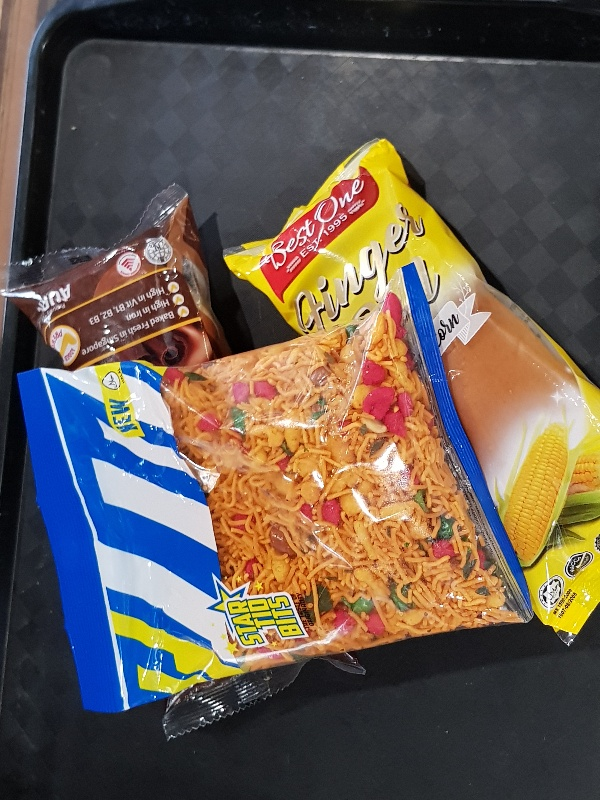Star Tidbits Mixer: (19, 263, 525, 712)
Sunshine Belgium Chocolate Wholemeal Cream Bun: (3, 182, 236, 371)
Tinges Roll Sweet Corn: (217, 135, 600, 649)
